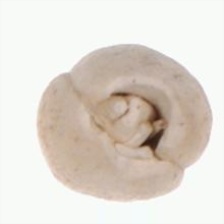L3: (89, 80, 171, 164)
L4: (37, 43, 212, 201)
